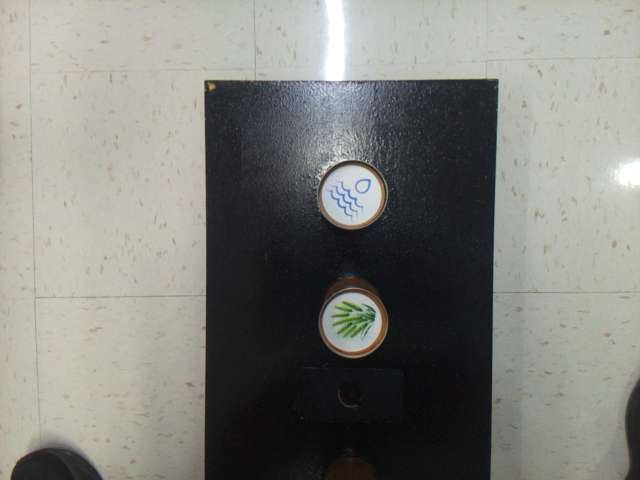water_barrel: (324, 169, 376, 223)
wheat_barrel: (326, 292, 378, 349)
